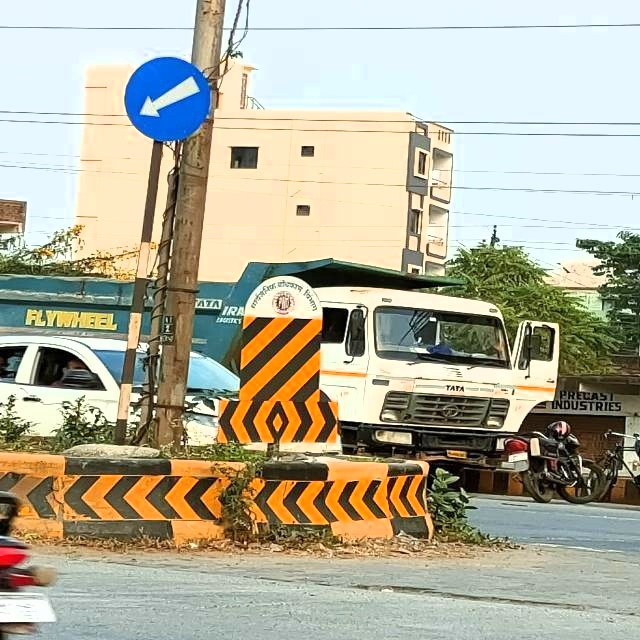R.301e: (122, 52, 216, 146)
